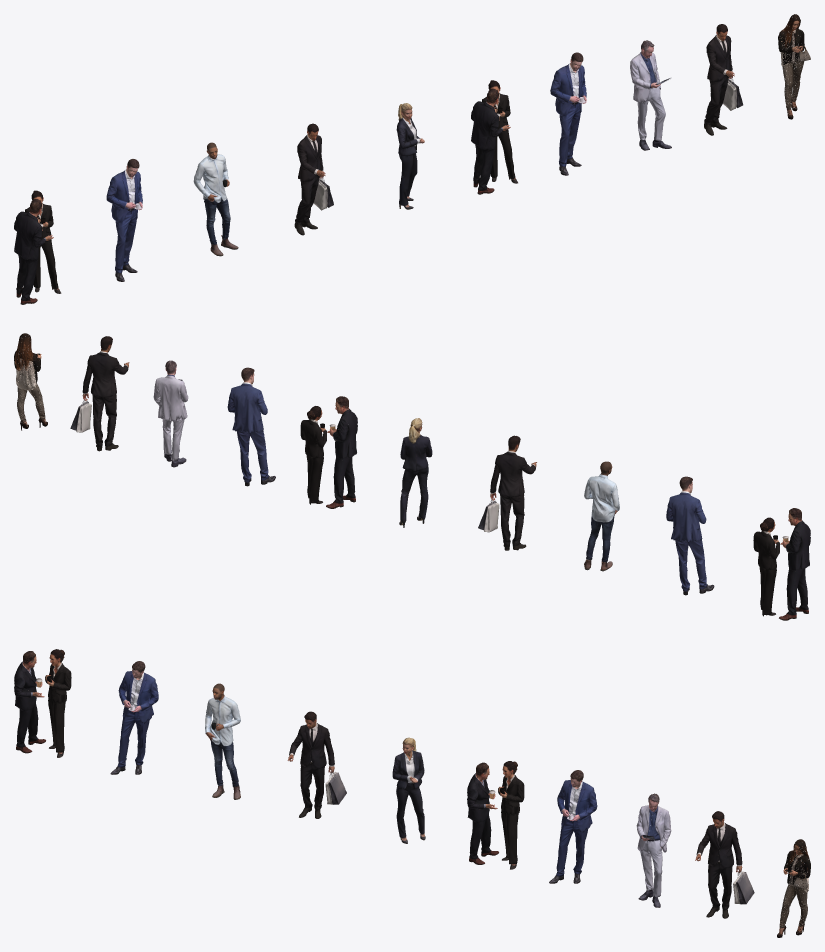
Rendered from people10.glb.
The picture shows the model from 3 angles, top to bottom: view 1: azimuth 30°, elevation 25°; view 2: azimuth 150°, elevation 25°; view 3: azimuth 330°, elevation 25°; orthographic projection.
Visible parts, largest first — view 1: Collection of office workers x 10-002_Collection of office w (×2), Collection of office workers x 10-007_Collection of office w (×2), Collection of office workers x 10-010_Collection of office w (×2), Collection of office workers x 10-008_Collection of office w, Collection of office workers x 10-003_Collection of office w, Collection of office workers x 10-009_Collection of office w, Collection of office workers x 10-005_Collection of office w, Collection of office workers x 10-006_Collection of office w, Collection of office workers x 10-004_Collection of office w, Collection of office workers x 10-001_Collection of office w; view 2: Collection of office workers x 10-002_Collection of office w (×2), Collection of office workers x 10-007_Collection of office w (×2), Collection of office workers x 10-010_Collection of office w (×2), Collection of office workers x 10-005_Collection of office w, Collection of office workers x 10-009_Collection of office w, Collection of office workers x 10-003_Collection of office w, Collection of office workers x 10-008_Collection of office w, Collection of office workers x 10-004_Collection of office w, Collection of office workers x 10-006_Collection of office w, Collection of office workers x 10-001_Collection of office w; view 3: Collection of office workers x 10-007_Collection of office w (×2), Collection of office workers x 10-002_Collection of office w (×2), Collection of office workers x 10-010_Collection of office w (×2), Collection of office workers x 10-005_Collection of office w, Collection of office workers x 10-009_Collection of office w, Collection of office workers x 10-003_Collection of office w, Collection of office workers x 10-008_Collection of office w, Collection of office workers x 10-006_Collection of office w, Collection of office workers x 10-004_Collection of office w, Collection of office workers x 10-001_Collection of office w.
Boxes of the visible parts, left/top/right/bottom form: Collection of office workers x 10-002_Collection of office w (×2): left=14, top=190, right=60, bottom=304; Collection of office workers x 10-007_Collection of office w (×2): left=471, top=80, right=517, bottom=194; Collection of office workers x 10-010_Collection of office w (×2): left=778, top=14, right=810, bottom=119; Collection of office workers x 10-008_Collection of office w: left=550, top=52, right=586, bottom=175; Collection of office workers x 10-003_Collection of office w: left=106, top=159, right=142, bottom=281; Collection of office workers x 10-009_Collection of office w: left=704, top=24, right=743, bottom=135; Collection of office workers x 10-005_Collection of office w: left=294, top=123, right=333, bottom=235; Collection of office workers x 10-006_Collection of office w: left=630, top=40, right=671, bottom=150; Collection of office workers x 10-004_Collection of office w: left=193, top=142, right=238, bottom=256; Collection of office workers x 10-001_Collection of office w: left=396, top=103, right=424, bottom=209; Collection of office workers x 10-002_Collection of office w (×2): left=753, top=508, right=810, bottom=620; Collection of office workers x 10-007_Collection of office w (×2): left=300, top=396, right=357, bottom=508; Collection of office workers x 10-010_Collection of office w (×2): left=14, top=333, right=47, bottom=430; Collection of office workers x 10-005_Collection of office w: left=478, top=435, right=536, bottom=550; Collection of office workers x 10-009_Collection of office w: left=70, top=336, right=129, bottom=451; Collection of office workers x 10-003_Collection of office w: left=666, top=476, right=714, bottom=595; Collection of office workers x 10-008_Collection of office w: left=227, top=367, right=275, bottom=486; Collection of office workers x 10-004_Collection of office w: left=584, top=461, right=619, bottom=571; Collection of office workers x 10-006_Collection of office w: left=153, top=360, right=188, bottom=467; Collection of office workers x 10-001_Collection of office w: left=399, top=418, right=432, bottom=527; Collection of office workers x 10-007_Collection of office w (×2): left=467, top=761, right=524, bottom=869; Collection of office workers x 10-002_Collection of office w (×2): left=14, top=649, right=71, bottom=757; Collection of office workers x 10-010_Collection of office w (×2): left=777, top=839, right=810, bottom=937; Collection of office workers x 10-005_Collection of office w: left=287, top=711, right=346, bottom=818; Collection of office workers x 10-009_Collection of office w: left=695, top=811, right=754, bottom=918; Collection of office workers x 10-003_Collection of office w: left=110, top=661, right=158, bottom=774; Collection of office workers x 10-008_Collection of office w: left=549, top=770, right=597, bottom=883; Collection of office workers x 10-006_Collection of office w: left=636, top=793, right=671, bottom=907; Collection of office workers x 10-004_Collection of office w: left=205, top=683, right=240, bottom=799; Collection of office workers x 10-001_Collection of office w: left=392, top=737, right=425, bottom=843.
Bounding box in the file's own units: 14.34 × 1.95 × 1.04.
12 materials, 10 textured.
